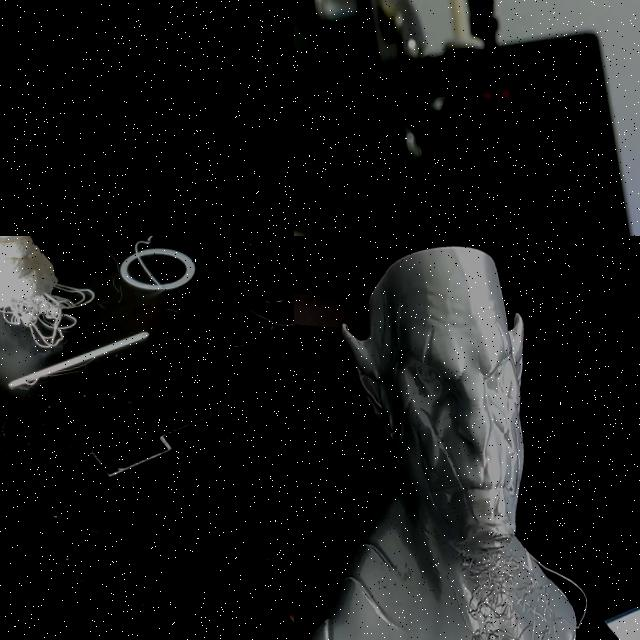spaghetti: (394, 507, 640, 640), (0, 274, 106, 359), (131, 236, 175, 301)
